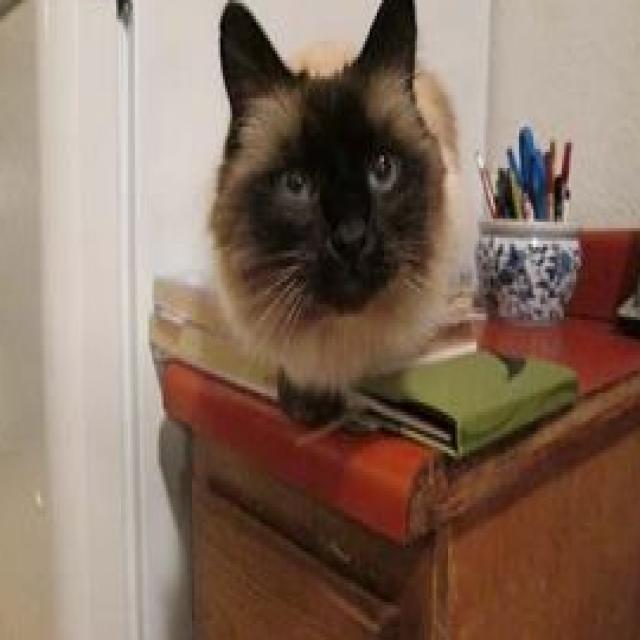Birman: (204, 0, 464, 431)
